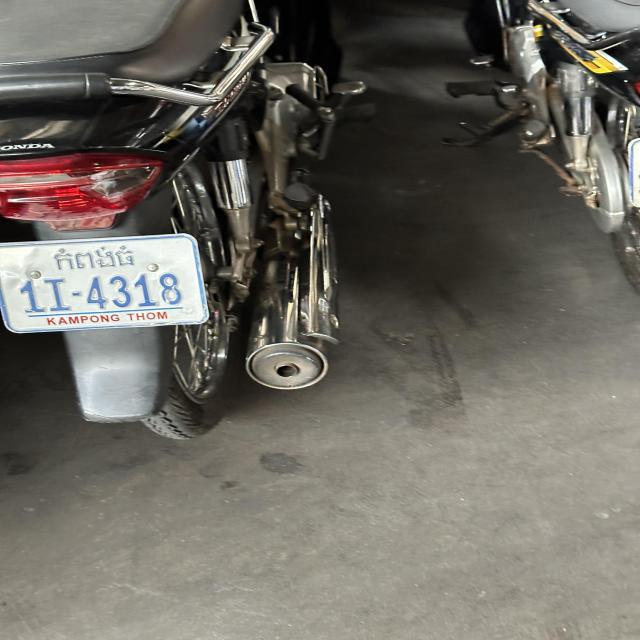Kampong_Thom: (52, 243, 134, 270)
